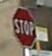stop: (10, 5, 37, 49)
